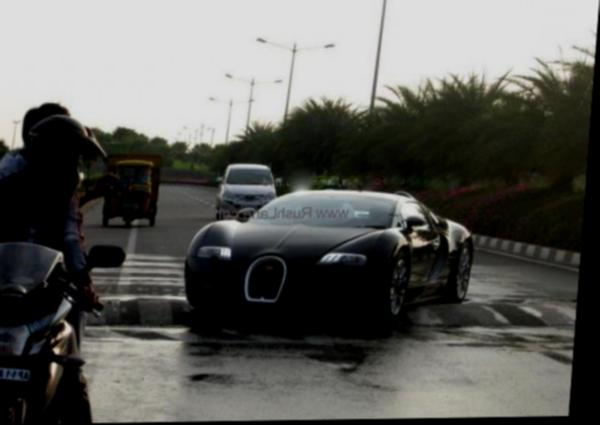License_Plate: (0, 364, 33, 383)
